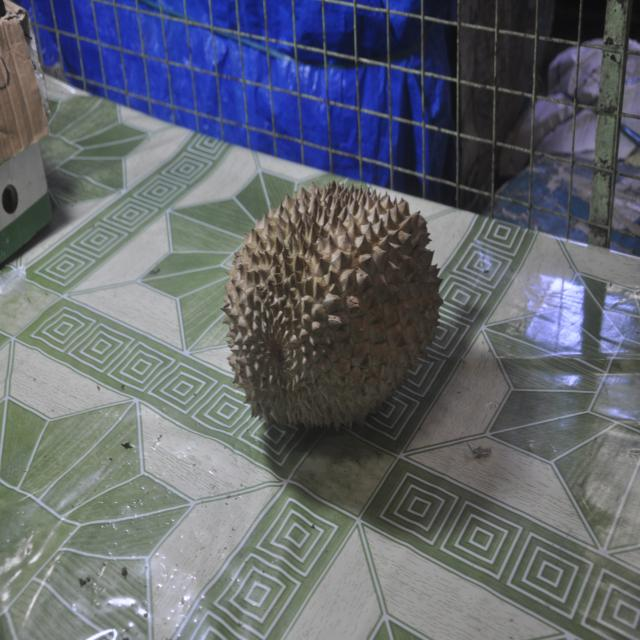mature: (221, 182, 442, 429)
